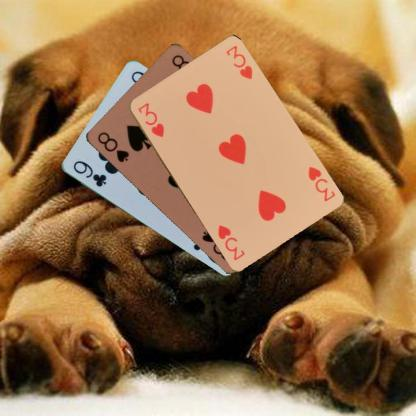3h: (305, 163, 336, 203), (135, 100, 165, 139)
8s: (94, 129, 130, 164)
9c: (70, 158, 107, 188)
